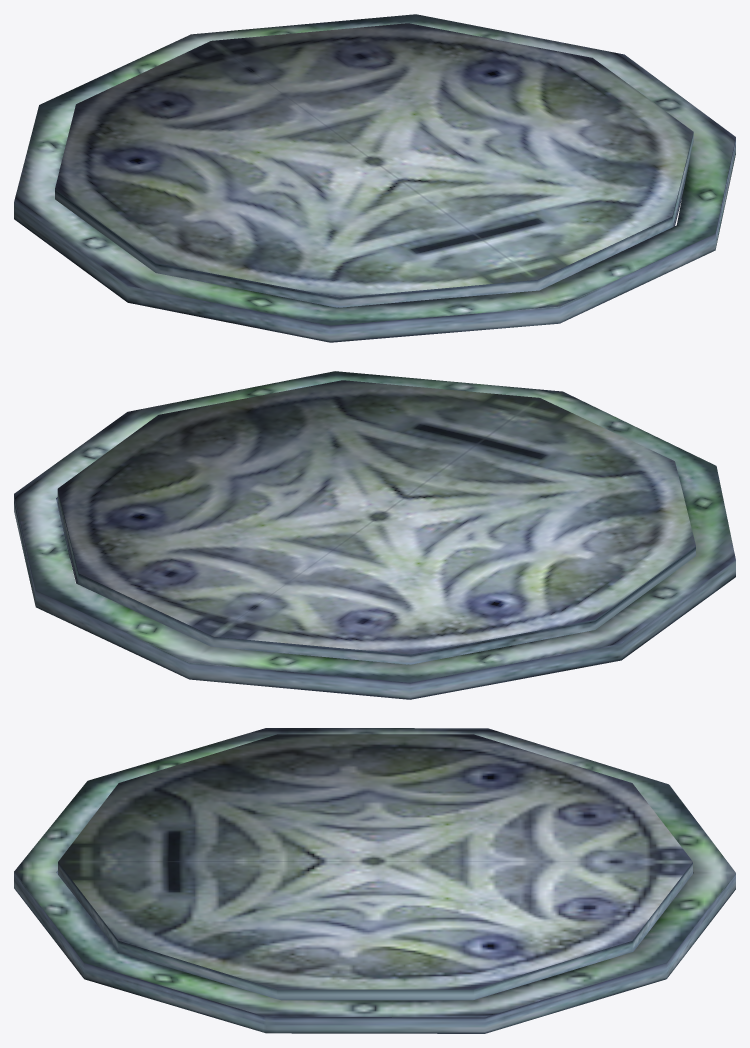
Rendered from a_manhole01.glb.
3 views of the same model, one above another, from view 1: azimuth 30°, elevation 25°; view 2: azimuth 150°, elevation 25°; view 3: azimuth 270°, elevation 25° (orthographic). The views are drawn at different scales.
Visible parts, largest first — view 1: a_manhole01; view 2: a_manhole01; view 3: a_manhole01.
Part boxes in pixels (left/top/right/bottom): a_manhole01: left=14, top=14, right=735, bottom=342; a_manhole01: left=14, top=371, right=735, bottom=699; a_manhole01: left=14, top=728, right=735, bottom=1033.
Size of the model in its own units: 1.01 by 0.0435 by 1.07.
1 material, 1 textured.
